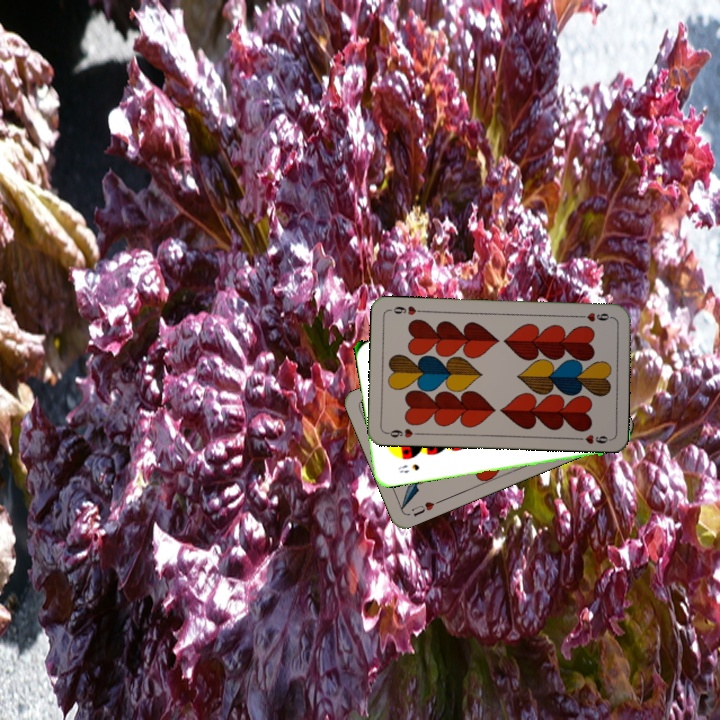H9: (382, 425, 423, 440), (574, 309, 615, 324)
HU: (407, 496, 444, 519)
S8: (394, 460, 422, 475)
